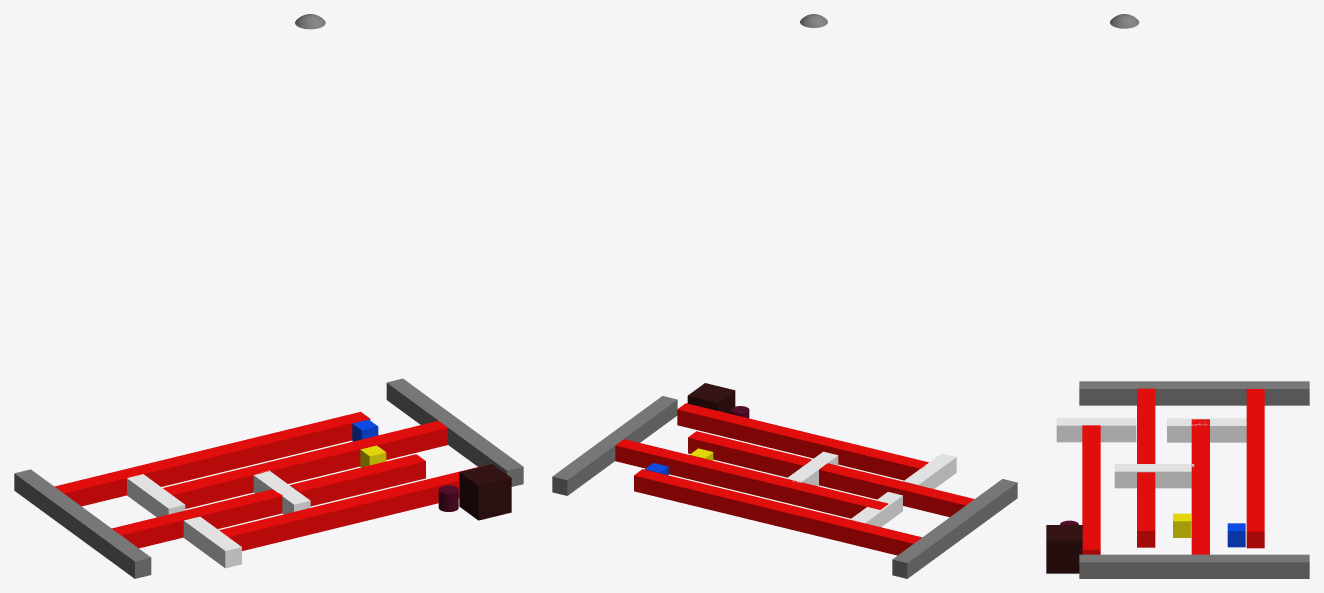
Rendered from DKSet.obj.
3 views of the same model, side by side, from view 1: azimuth 30°, elevation 25°; view 2: azimuth 150°, elevation 25°; view 3: azimuth 270°, elevation 25° (orthographic). The views are drawn at different scales.
Visible parts, largest first — view 1: MainGroup floors floor0, MainGroup floors floor1, MainGroup floor3 floors, MainGroup walls rightWall, MainGroup floors pCube4, MainGroup leftWall walls, MainGroup floors floor2, MainGroup hammer1, MainGroup topstair, MainGroup bottomstair, MainGroup middlestair; view 2: MainGroup floors floor0, MainGroup floors floor1, MainGroup floor3 floors, MainGroup walls rightWall, MainGroup leftWall walls, MainGroup floors pCube4, MainGroup floors floor2, MainGroup topstair, MainGroup hammer1, MainGroup bottomstair, MainGroup middlestair; view 3: MainGroup leftWall walls, MainGroup walls rightWall, MainGroup floors floor0, MainGroup floors floor1, MainGroup floor3 floors, MainGroup hammer1, MainGroup topstair, MainGroup middlestair, MainGroup bottomstair, MainGroup floors floor2, MainGroup floors pCube4, hammer MainGroup (+1 smaller).
Boxes of the visible parts, x1,y1,x2,y2 form: MainGroup floors floor0: (54, 411, 370, 506); MainGroup floors floor1: (163, 421, 447, 508); MainGroup floor3 floors: (219, 465, 484, 550); MainGroup walls rightWall: (14, 469, 151, 578); MainGroup floors pCube4: (111, 489, 282, 548); MainGroup leftWall walls: (386, 378, 523, 486); MainGroup floors floor2: (290, 454, 425, 506); MainGroup hammer1: (459, 464, 511, 520); MainGroup topstair: (183, 516, 241, 568); MainGroup bottomstair: (127, 474, 185, 517); MainGroup middlestair: (253, 470, 310, 514); MainGroup floors floor0: (634, 469, 921, 555); MainGroup floors floor1: (615, 439, 888, 518); MainGroup floor3 floors: (677, 403, 928, 480); MainGroup walls rightWall: (892, 479, 1017, 578); MainGroup leftWall walls: (552, 396, 677, 495); MainGroup floors pCube4: (819, 463, 974, 517); MainGroup floors floor2: (688, 431, 811, 477); MainGroup topstair: (903, 453, 956, 488); MainGroup hammer1: (687, 383, 735, 413); MainGroup bottomstair: (850, 492, 902, 526); MainGroup middlestair: (787, 451, 838, 485); MainGroup leftWall walls: (1079, 554, 1309, 578); MainGroup walls rightWall: (1079, 381, 1309, 405); MainGroup floors floor0: (1246, 389, 1264, 548); MainGroup floors floor1: (1191, 419, 1209, 554); MainGroup floor3 floors: (1082, 425, 1100, 554); MainGroup hammer1: (1046, 525, 1082, 573); MainGroup topstair: (1056, 418, 1136, 442); MainGroup middlestair: (1114, 464, 1194, 488); MainGroup bottomstair: (1167, 418, 1246, 442); MainGroup floors floor2: (1137, 472, 1155, 547); MainGroup floors pCube4: (1137, 388, 1155, 463); hammer MainGroup: (1173, 513, 1191, 537).
Size of the model in its own units: 23.5 by 29.22 by 14.44.
